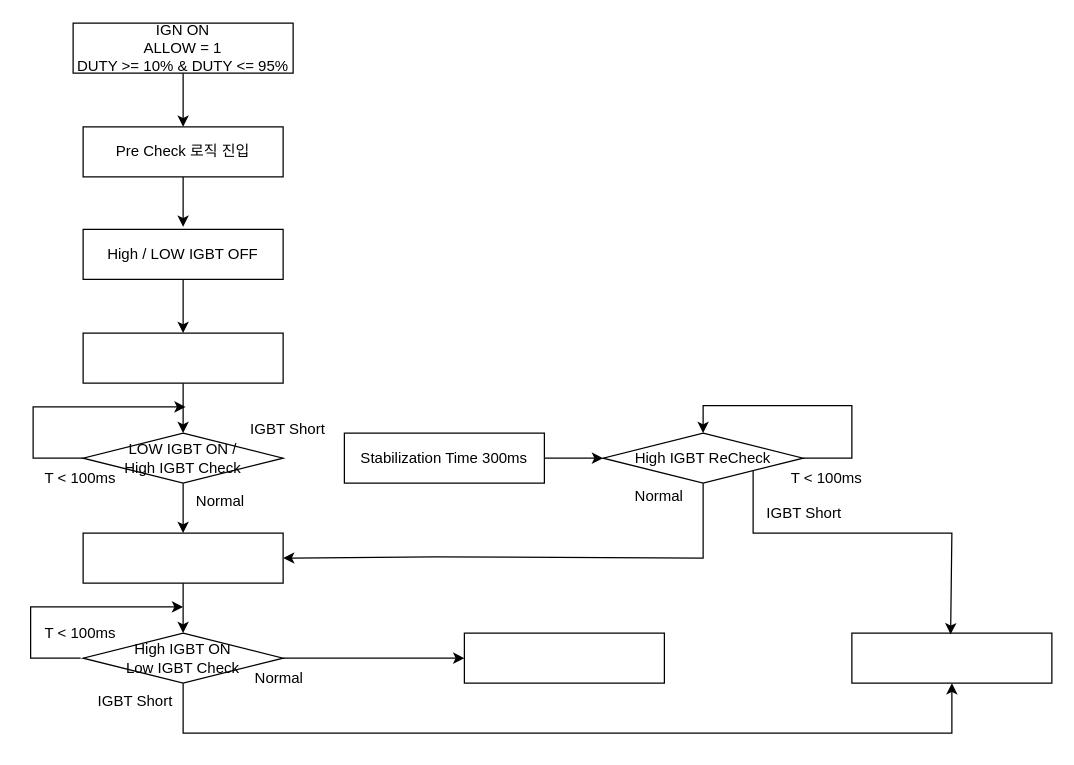
Some shapes in this 1074 by 765 pixel diagram are drawn without their labels. The shapes that lost their labels are listed below. From the top down, each one's centre as x and y in pixels, then its label:
At [182,357]: "Stabilization Time 1s".
At [182,557]: "LOW IGBT OFF Stabilization Time 200ms".
At [563,657]: "작동 로직 진입".
At [951,657]: "IGBT Fault".
